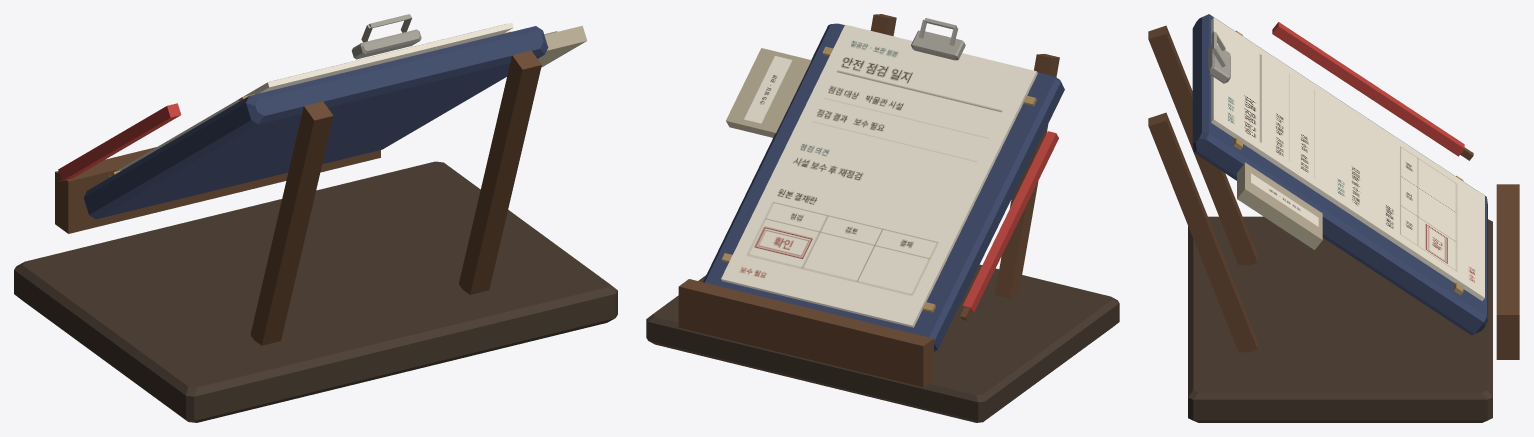
The model's file is C09_Safety_Inspection_Original.fbx.
3 renders of one model, left to right at view 1: azimuth 30°, elevation 25°; view 2: azimuth 150°, elevation 25°; view 3: azimuth 270°, elevation 25°, orthographic. The views are drawn at different scales.
Parts seen in each view (by area): view 1: File_Rest, Original_Folder, Front_Original_Log, Red_Pencil, Binder_Clip, Front_Original_Tab; view 2: Front_Original_Log, File_Rest, Original_Folder, Front_Original_Tab, Red_Pencil, Binder_Clip; view 3: File_Rest, Front_Original_Log, Original_Folder, Front_Original_Tab, Red_Pencil, Binder_Clip.
Boxes of the visible parts, x1=… form: File_Rest: x1=14, y1=50, x2=617, y2=422; Original_Folder: x1=84, y1=26, x2=548, y2=219; Front_Original_Log: x1=109, y1=23, x2=513, y2=176; Red_Pencil: x1=55, y1=103, x2=181, y2=181; Binder_Clip: x1=351, y1=14, x2=421, y2=59; Front_Original_Tab: x1=538, y1=25, x2=587, y2=67; Front_Original_Log: x1=721, y1=24, x2=1037, y2=327; File_Rest: x1=646, y1=14, x2=1119, y2=422; Original_Folder: x1=703, y1=23, x2=1064, y2=351; Front_Original_Tab: x1=726, y1=48, x2=811, y2=137; Red_Pencil: x1=960, y1=131, x2=1058, y2=320; Binder_Clip: x1=911, y1=18, x2=965, y2=60; File_Rest: x1=1148, y1=25, x2=1519, y2=422; Front_Original_Log: x1=1211, y1=17, x2=1484, y2=301; Original_Folder: x1=1192, y1=14, x2=1487, y2=335; Front_Original_Tab: x1=1237, y1=162, x2=1322, y2=249; Red_Pencil: x1=1272, y1=22, x2=1473, y2=160; Binder_Clip: x1=1208, y1=31, x2=1230, y2=83.
Size of the model in its own units: 0.56 by 0.4278 by 0.4868.
Materials: 9 (1 with a texture image).
